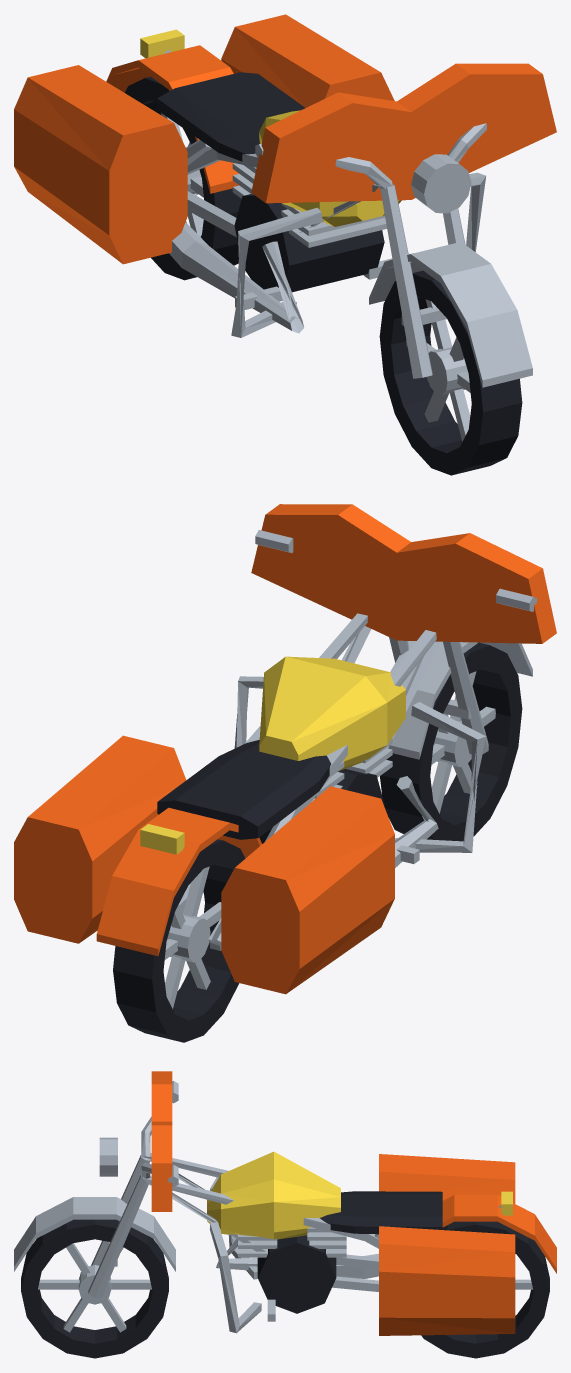
File: bagger.glb
3 renders of one model, top to bottom at view 1: azimuth 30°, elevation 25°; view 2: azimuth 150°, elevation 25°; view 3: azimuth 270°, elevation 25°, orthographic. The views are drawn at different scales.
Parts seen in each view (by area): view 1: bike_body, wheel_front, fork_mesh, wheel_rear; view 2: bike_body, wheel_rear, wheel_front, fork_mesh; view 3: bike_body, wheel_front, fork_mesh, wheel_rear.
Boxes of the visible parts, x1=… form: bike_body: x1=14, y1=14, x2=556, y2=337; wheel_front: x1=379, y1=270, x2=522, y2=475; fork_mesh: x1=255, y1=123, x2=532, y2=387; wheel_rear: x1=125, y1=76, x2=241, y2=280; bike_body: x1=14, y1=504, x2=556, y2=994; wheel_rear: x1=113, y1=839, x2=245, y2=1042; wheel_front: x1=380, y1=642, x2=522, y2=841; fork_mesh: x1=255, y1=530, x2=536, y2=759; bike_body: x1=99, y1=1071, x2=556, y2=1335; wheel_front: x1=21, y1=1219, x2=168, y2=1358; fork_mesh: x1=14, y1=1081, x2=178, y2=1298; wheel_rear: x1=421, y1=1221, x2=549, y2=1358.
Size of the model in its own units: 1.04 by 1.18 by 2.35.
